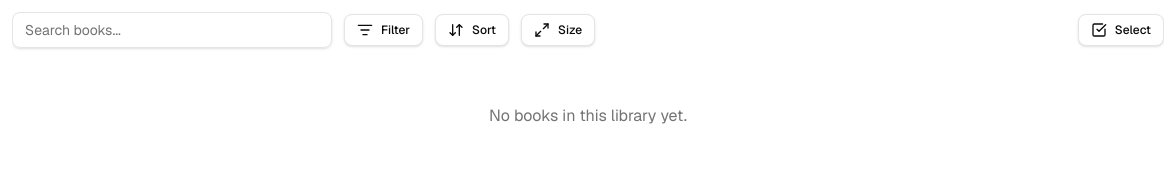
Test: Home search failure › reports a failed search after the unfiltered list loaded
The width and height of the screenshot is (1176, 172).
Expected: the text "No books in this library yet." is shown, [489,105,687,126]
In the search field with placeholder "Search books...": (172, 30) [12,12,332,48], type "zzz"
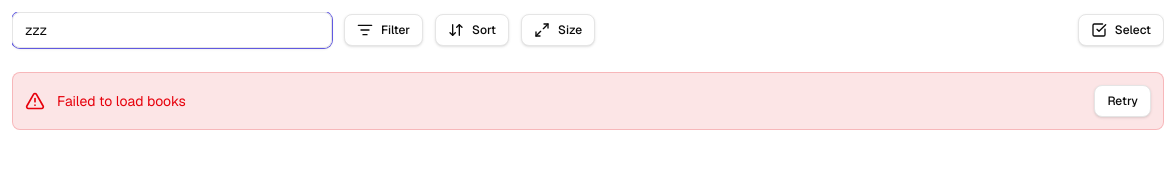
Result: the message shows "Failed to load books" at [57,92,186,110]
